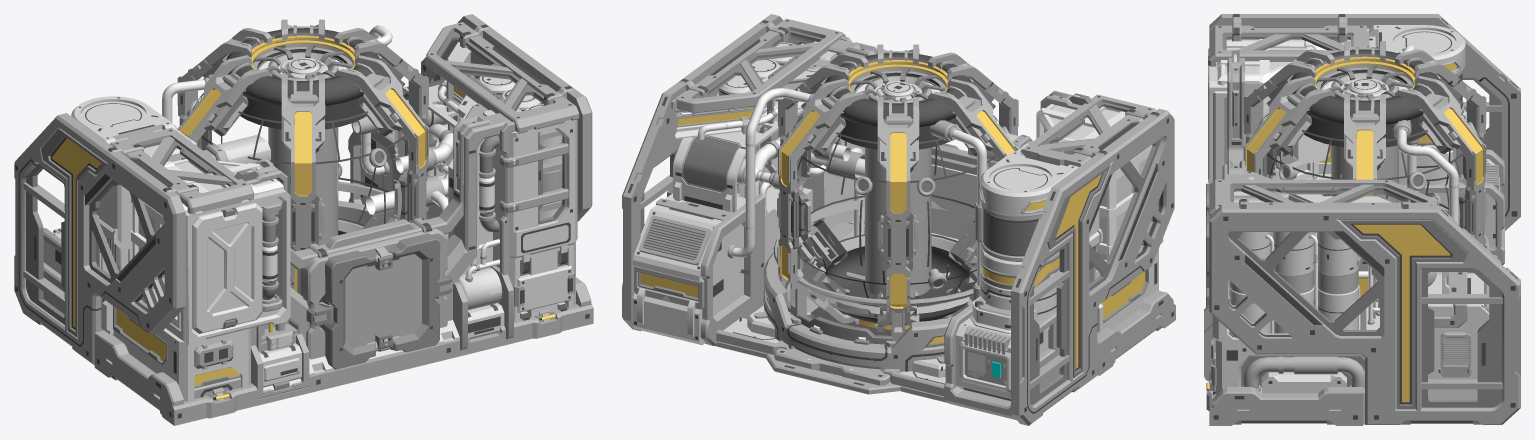
The model's file is Prototech_Reactor_LOD2.fbx.
3 views of the same model, side by side, from view 1: azimuth 30°, elevation 25°; view 2: azimuth 150°, elevation 25°; view 3: azimuth 270°, elevation 25° (orthographic). The views are drawn at different scales.
Parts seen in each view (by area): view 1: Cube.293, Cube.304, Plane.031, Cylinder.162, Prot_Assembler_PaintedDarker_01.010, Prot_Assembler_PaintedDarker_06.031, Prot_Assembler_PaintedColorable_02.025, Cylinder.183, Prot_Assembler_PaintedVeryDark_04.015, 2_ReactorPole01.022, 2_ReactorPole01.021, Cube.315 (+44 smaller); view 2: Cube.293, Cylinder.162, Cube.315, Cube.308, 2_ReactorPole01.019, Plane.031, EMC Cylinder.019, Cylinder.133, 2_ReactorPole01.018, EMC Cylinder.018, Cube.353, 2_ReactorPole01.020 (+42 smaller); view 3: Cube.293, Cube.353, Plane.031, Cylinder.162, Cylinder.177, 2_ReactorPole01.019, Cube.352, Cylinder.183, Cylinder.133, 2_ReactorPole01.021, Cube.308, 2_ReactorPole01.020 (+34 smaller).
Boxes of the visible parts, bbox=[...] form: Cube.293: bbox=[14, 14, 592, 365]; Cube.304: bbox=[96, 129, 290, 401]; Plane.031: bbox=[109, 22, 579, 214]; Cylinder.162: bbox=[226, 28, 380, 271]; Prot_Assembler_PaintedDarker_01.010: bbox=[297, 228, 447, 359]; Prot_Assembler_PaintedDarker_06.031: bbox=[94, 304, 593, 425]; Prot_Assembler_PaintedColorable_02.025: bbox=[192, 202, 262, 333]; Cylinder.183: bbox=[427, 119, 577, 321]; Prot_Assembler_PaintedVeryDark_04.015: bbox=[324, 233, 440, 369]; 2_ReactorPole01.022: bbox=[281, 74, 325, 291]; 2_ReactorPole01.021: bbox=[334, 55, 428, 223]; Cube.315: bbox=[43, 131, 513, 398]; Cube.293: bbox=[622, 14, 1174, 425]; Cylinder.162: bbox=[824, 52, 971, 323]; Cube.315: bbox=[656, 194, 1059, 419]; Cube.308: bbox=[632, 108, 803, 345]; 2_ReactorPole01.019: bbox=[777, 78, 868, 324]; Plane.031: bbox=[676, 18, 1156, 166]; EMC Cylinder.019: bbox=[763, 223, 953, 371]; Cylinder.133: bbox=[980, 151, 1078, 330]; 2_ReactorPole01.018: bbox=[875, 96, 919, 331]; EMC Cylinder.018: bbox=[773, 199, 974, 344]; Cube.353: bbox=[640, 138, 1161, 405]; 2_ReactorPole01.020: bbox=[777, 52, 868, 292]; Cube.293: bbox=[1209, 14, 1520, 424]; Cube.353: bbox=[1228, 39, 1501, 407]; Plane.031: bbox=[1209, 25, 1436, 215]; Cylinder.162: bbox=[1290, 49, 1439, 202]; Cylinder.177: bbox=[1229, 232, 1358, 338]; 2_ReactorPole01.019: bbox=[1395, 75, 1487, 248]; Cube.352: bbox=[1349, 223, 1452, 404]; Cylinder.183: bbox=[1212, 314, 1364, 395]; Cylinder.133: bbox=[1369, 25, 1465, 185]; 2_ReactorPole01.021: bbox=[1243, 75, 1334, 175]; Cube.308: bbox=[1360, 272, 1489, 399]; 2_ReactorPole01.020: bbox=[1344, 94, 1385, 296].
Size of what is drawn, in the model's own units: 755 by 452 by 508.
